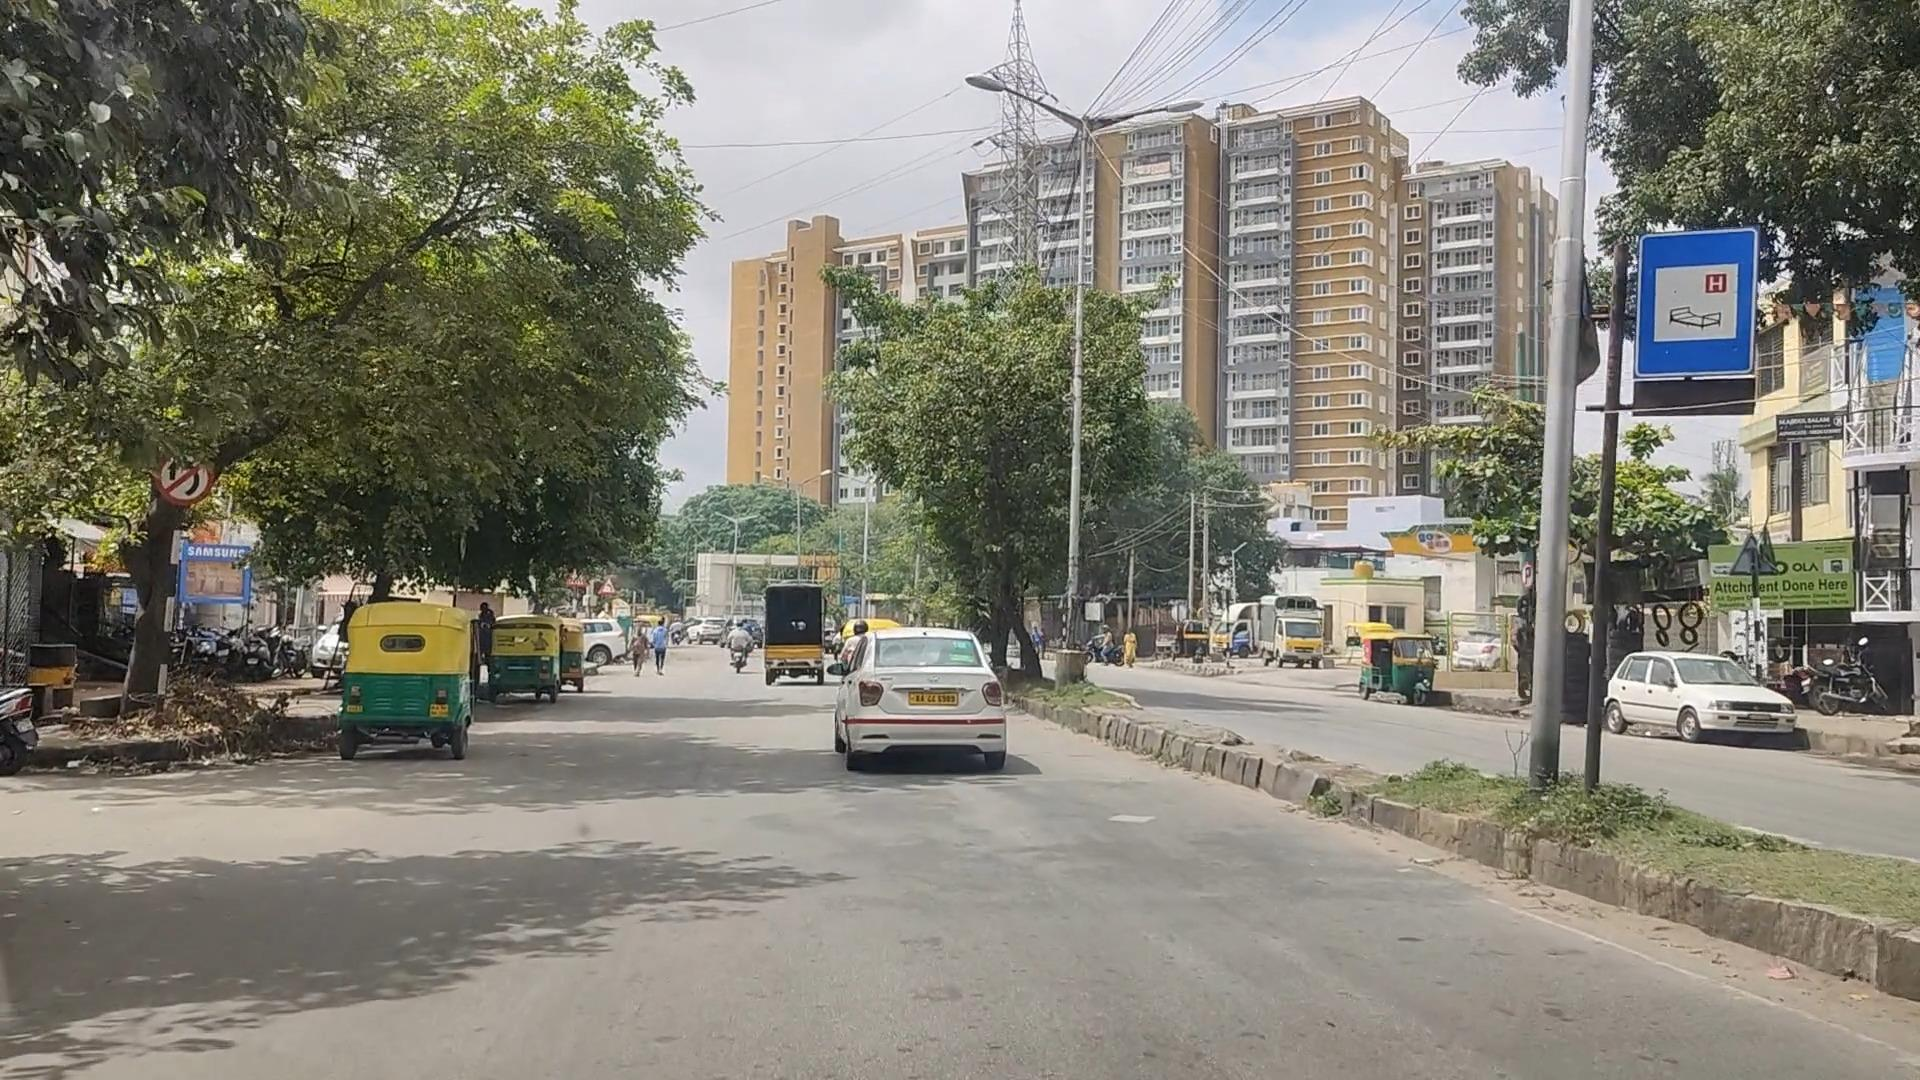LMV: (313, 587, 477, 757), (839, 630, 1009, 783)
